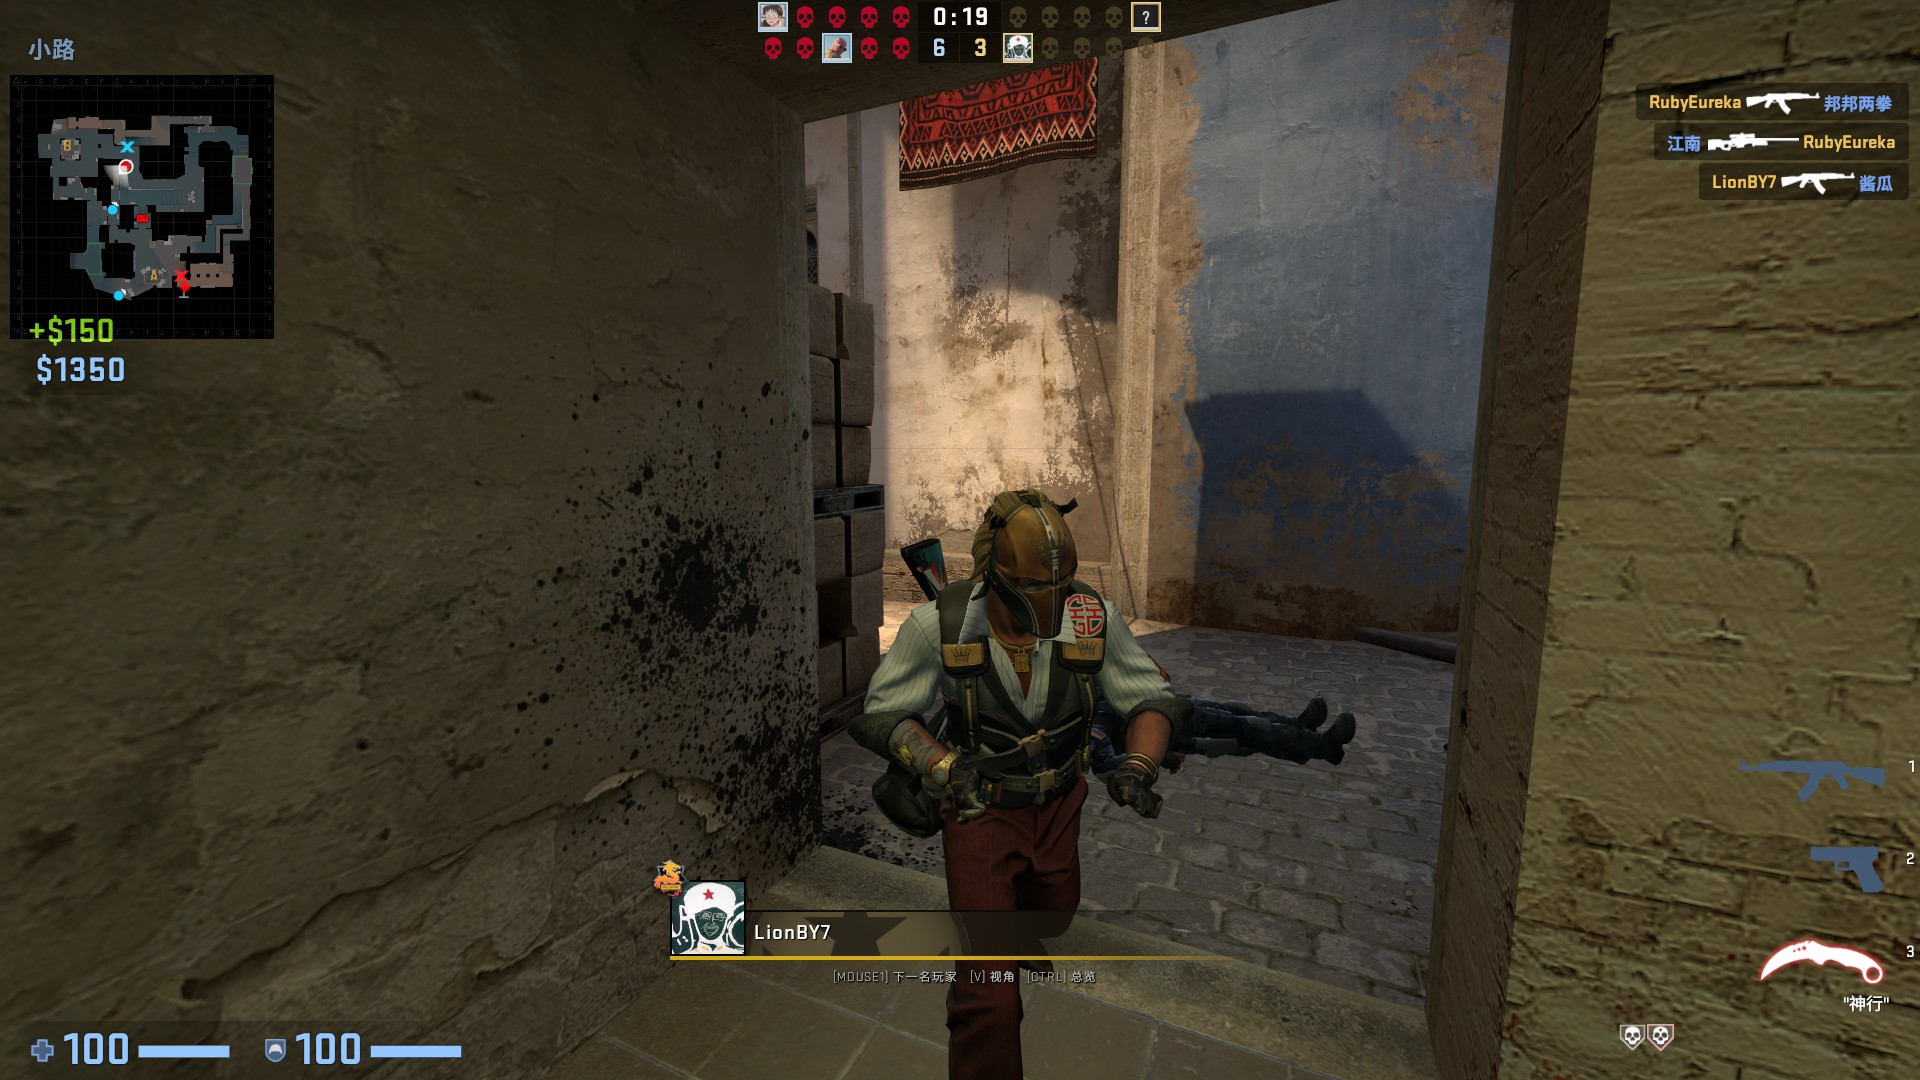head: (976, 482, 1084, 642)
